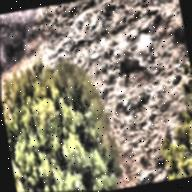boar: (114, 51, 145, 87), (165, 17, 187, 53)
